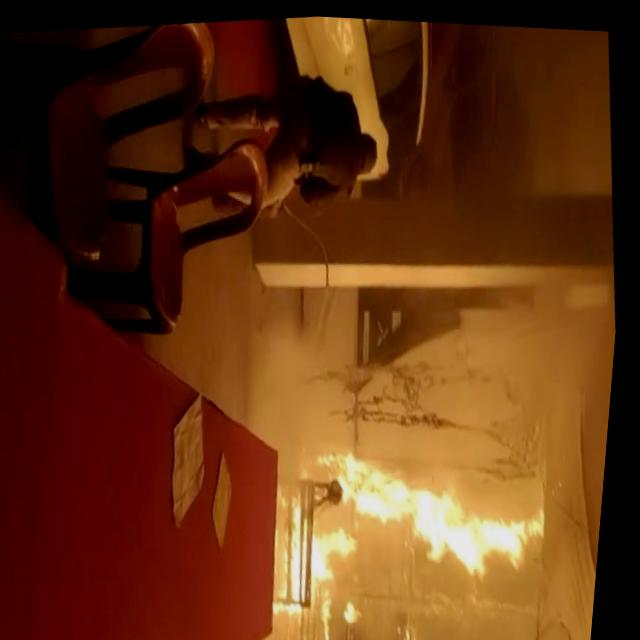Fire: (313, 417, 567, 596)
